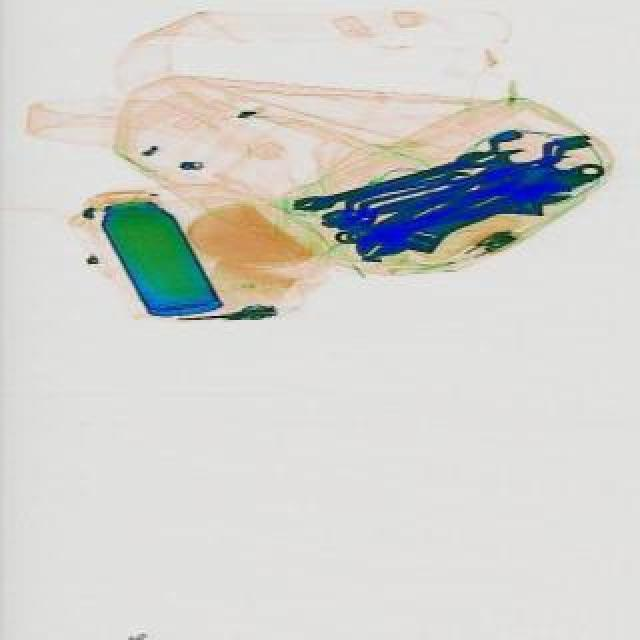scissors: (346, 150, 606, 278), (290, 154, 472, 218), (426, 142, 534, 210)
